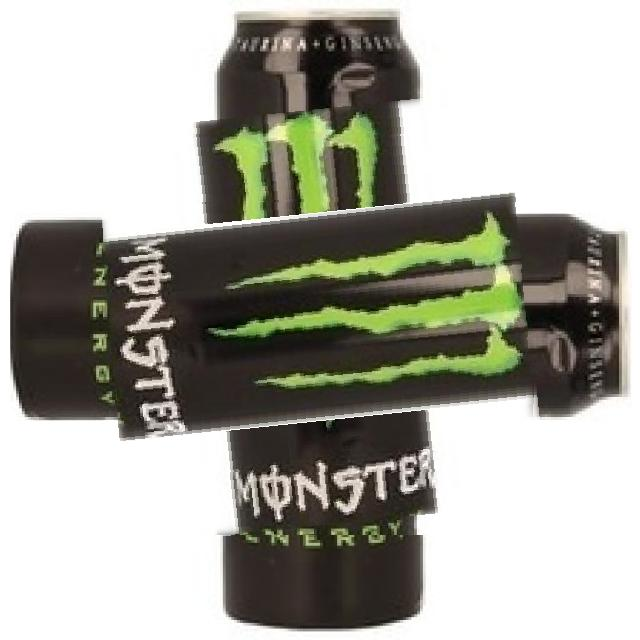recyclable: (103, 100, 538, 535)
